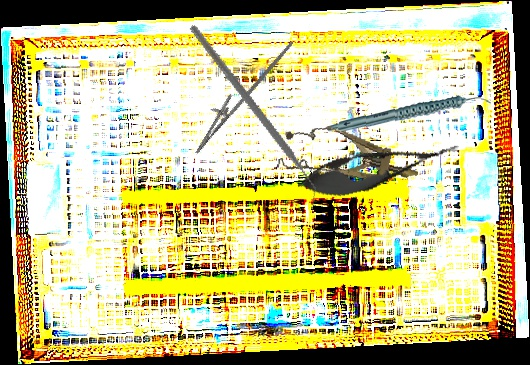Chopper: (145, 23, 360, 209)
Handpiece: (327, 90, 492, 138)
Micro Scissor: (293, 128, 464, 208)
Needle Holder: (185, 24, 295, 165)
Speculum: (276, 116, 424, 201)
